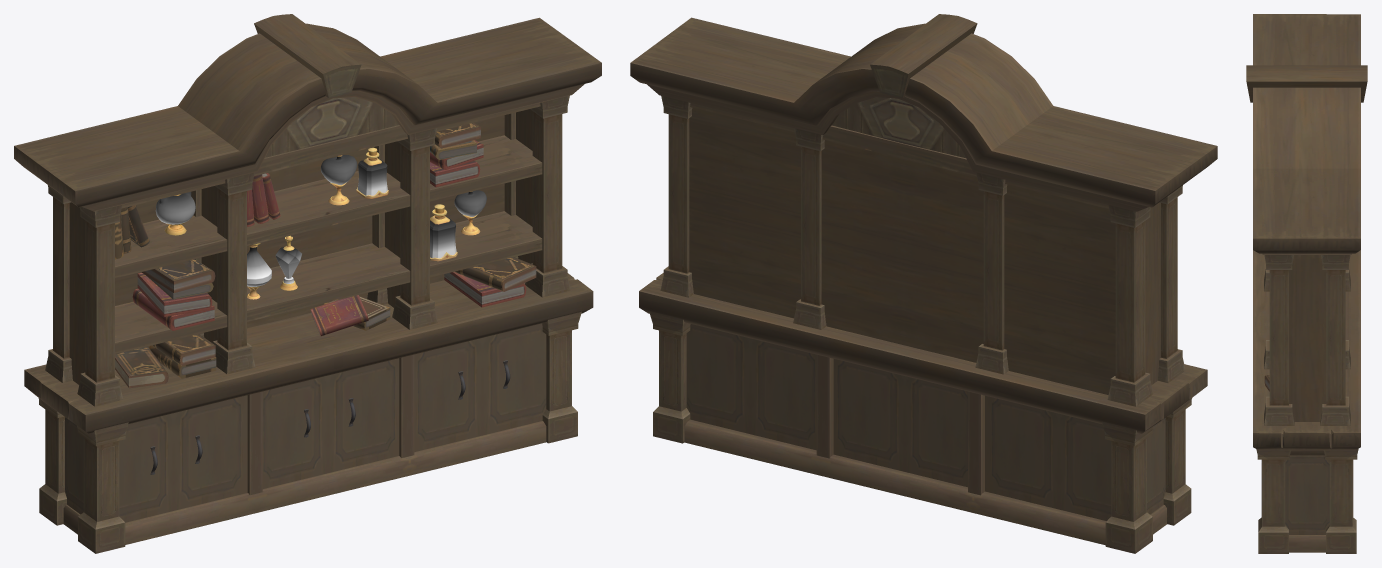
File: Homeworld_Exterior_Md_Cabinet_Prop_Ljyaojigui_01_Lod0.fbx
The picture shows the model from 3 angles, left to right: view 1: azimuth 30°, elevation 25°; view 2: azimuth 150°, elevation 25°; view 3: azimuth 270°, elevation 25°; orthographic projection. The views are drawn at different scales.
Parts seen in each view (by area): view 1: Area_Md_Prop_AlchemySim_08_Lod0, Area_Md_Prop_AlchemySim_13_Vo, Area_Md_Prop_AlchemySim_15_Vo, Area_Md_Prop_AlchemySim_12_Vo (1), Area_Md_Prop_AlchemySim_16_Vo, Area_Md_Prop_AlchemySim_12_Vo (2), Area_Md_Prop_AlchemySim_14_Vo, Area_Md_Prop_AlchemySim_15_Vo (1); view 2: Area_Md_Prop_AlchemySim_08_Lod0; view 3: Area_Md_Prop_AlchemySim_08_Lod0.
Boxes of the visible parts, bbox=[...] form: Area_Md_Prop_AlchemySim_08_Lod0: bbox=[14, 14, 601, 553]; Area_Md_Prop_AlchemySim_13_Vo: bbox=[430, 204, 457, 261]; Area_Md_Prop_AlchemySim_15_Vo: bbox=[155, 192, 195, 235]; Area_Md_Prop_AlchemySim_12_Vo (1): bbox=[356, 147, 388, 198]; Area_Md_Prop_AlchemySim_16_Vo: bbox=[320, 155, 357, 205]; Area_Md_Prop_AlchemySim_12_Vo (2): bbox=[247, 243, 271, 299]; Area_Md_Prop_AlchemySim_14_Vo: bbox=[454, 190, 486, 235]; Area_Md_Prop_AlchemySim_15_Vo (1): bbox=[275, 235, 301, 290]; Area_Md_Prop_AlchemySim_08_Lod0: bbox=[630, 14, 1217, 553]; Area_Md_Prop_AlchemySim_08_Lod0: bbox=[1246, 14, 1367, 553].
Bounding box in the file's own units: 4.78 × 3.76 × 1.09.
